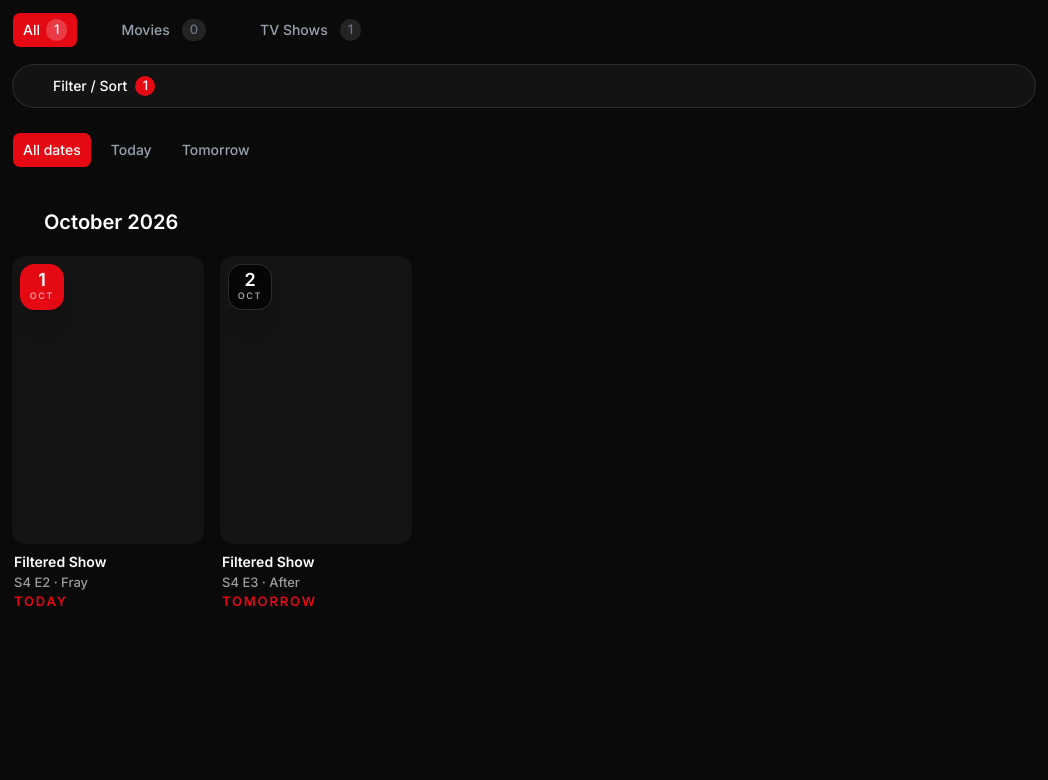
Test case: ReleaseCalendarView › shows one visible grouped episode row without a toggle after temporal filtering
The image size is (1048, 780).
Step 1. Click the button with test id "release-calendar-temporal-tab-today" → coordinates (131, 150), box 100,132 -> 163,168
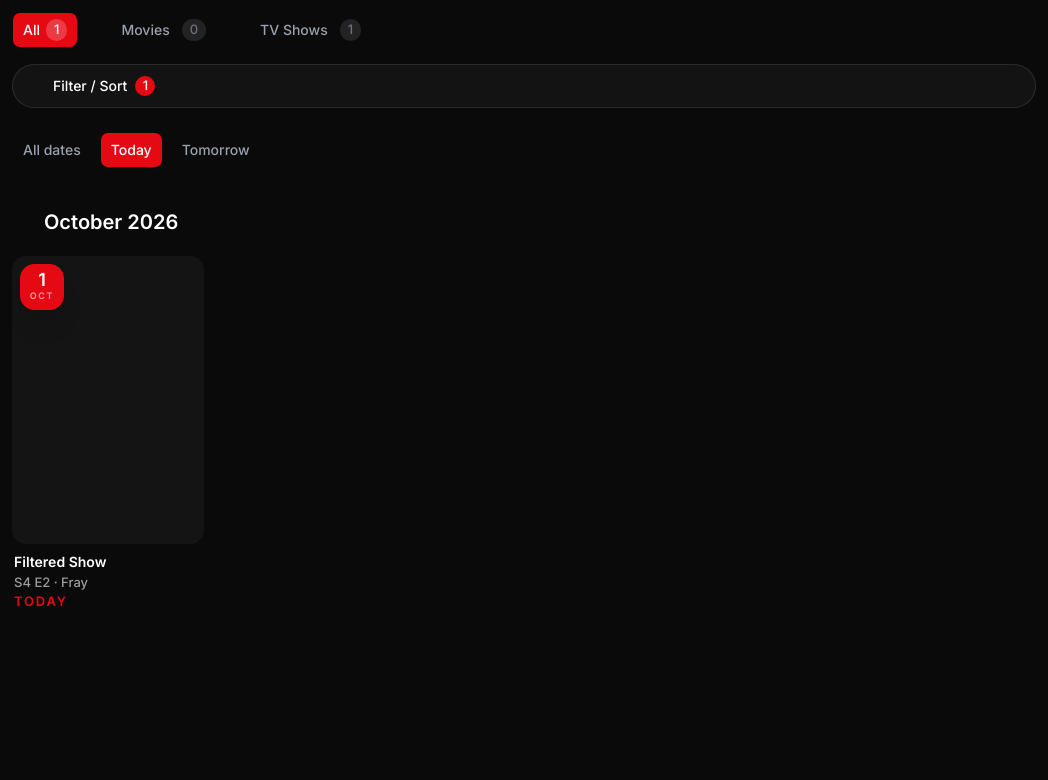
Expected: the text "S4 E2 · Fray" is shown, 14,574 -> 88,590
Expected: the link "After" is gone
